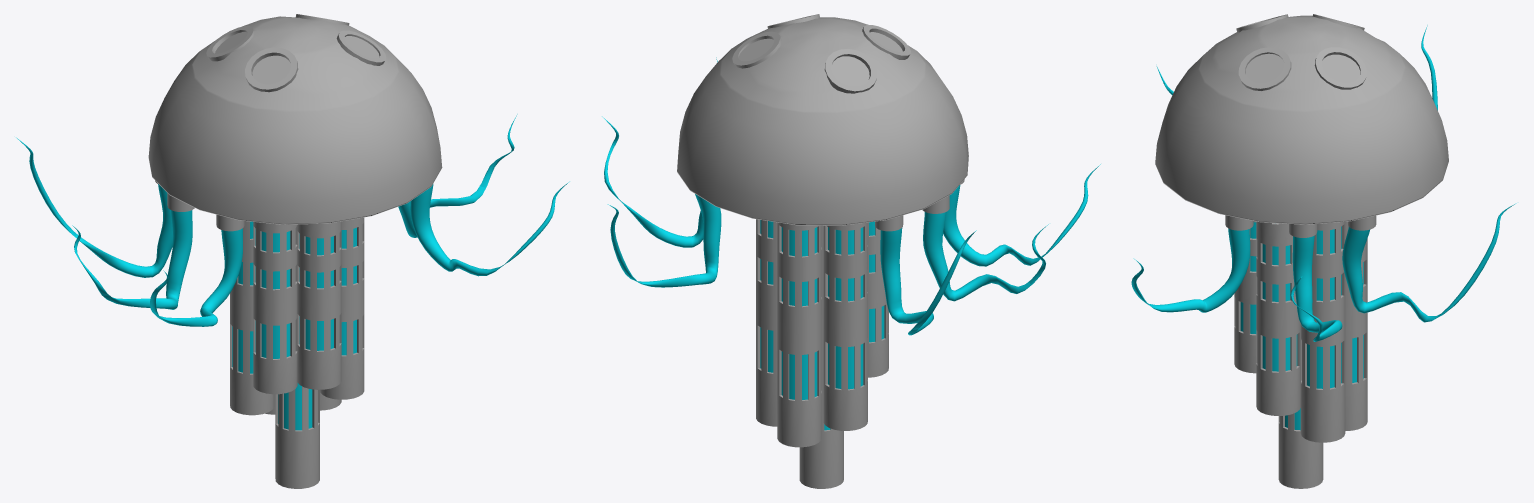
The model's file is Blue_basic 1.fbx.
The picture shows the model from 3 angles, left to right: view 1: azimuth 30°, elevation 25°; view 2: azimuth 150°, elevation 25°; view 3: azimuth 270°, elevation 25°; orthographic projection.
Visible parts, largest first — view 1: pSphere1, pCylinder11, pCylinder10, pCylinder2 (×5), pCylinder9, pCylinder1, pCylinder12, pCone7, pCone8, pCone2, pCone11, pCone10 (+4 smaller); view 2: pSphere1, pCylinder7, pCylinder12, pCylinder2 (×4), pCylinder8, pCylinder1, pCone2, pCone7, pCone9, pCylinder11, pCone8, pCone10 (+4 smaller); view 3: pSphere1, pCylinder9, pCylinder8, pCylinder7, pCylinder2 (×3), pCone9, pCylinder1, pCone11, pCone10, pCylinder10, pPipe10, pPipe9 (+2 smaller).
Part boxes in pixels (box(x1,y1,x2,y2)): pSphere1: box(148, 16, 442, 224); pCylinder11: box(253, 222, 297, 394); pCylinder10: box(297, 221, 341, 389); pCylinder2 (×5): box(232, 221, 356, 430); pCylinder9: box(320, 217, 364, 399); pCylinder1: box(275, 386, 319, 488); pCylinder12: box(230, 221, 274, 415); pCone7: box(72, 210, 192, 309); pCone8: box(150, 228, 242, 326); pCone2: box(16, 137, 172, 277); pCone11: box(410, 181, 569, 276); pCone10: box(398, 114, 517, 237); pSphere1: box(677, 17, 968, 225); pCylinder7: box(777, 222, 821, 447); pCylinder12: box(823, 222, 867, 430); pCylinder2 (×4): box(760, 220, 884, 399); pCylinder8: box(756, 219, 777, 426); pCylinder1: box(799, 225, 843, 488); pCone2: box(880, 228, 976, 335); pCone7: box(923, 212, 1048, 301); pCone9: box(607, 194, 721, 287); pCylinder11: box(868, 222, 888, 377); pCone8: box(943, 164, 1100, 266); pCone10: box(602, 116, 703, 247); pSphere1: box(1155, 15, 1448, 224); pCylinder9: box(1256, 221, 1300, 415); pCylinder8: box(1300, 221, 1345, 442); pCylinder7: box(1345, 221, 1367, 430); pCylinder2 (×3): box(1240, 222, 1341, 388); pCone9: box(1342, 203, 1516, 322); pCylinder1: box(1278, 413, 1323, 488); pCone11: box(1131, 228, 1250, 312); pCone10: box(1290, 235, 1342, 341); pCylinder10: box(1234, 221, 1256, 373); pPipe10: box(1238, 47, 1291, 90); pPipe9: box(1314, 47, 1366, 89).
Size of the model in its own units: 23.52 by 22.52 by 17.63.
